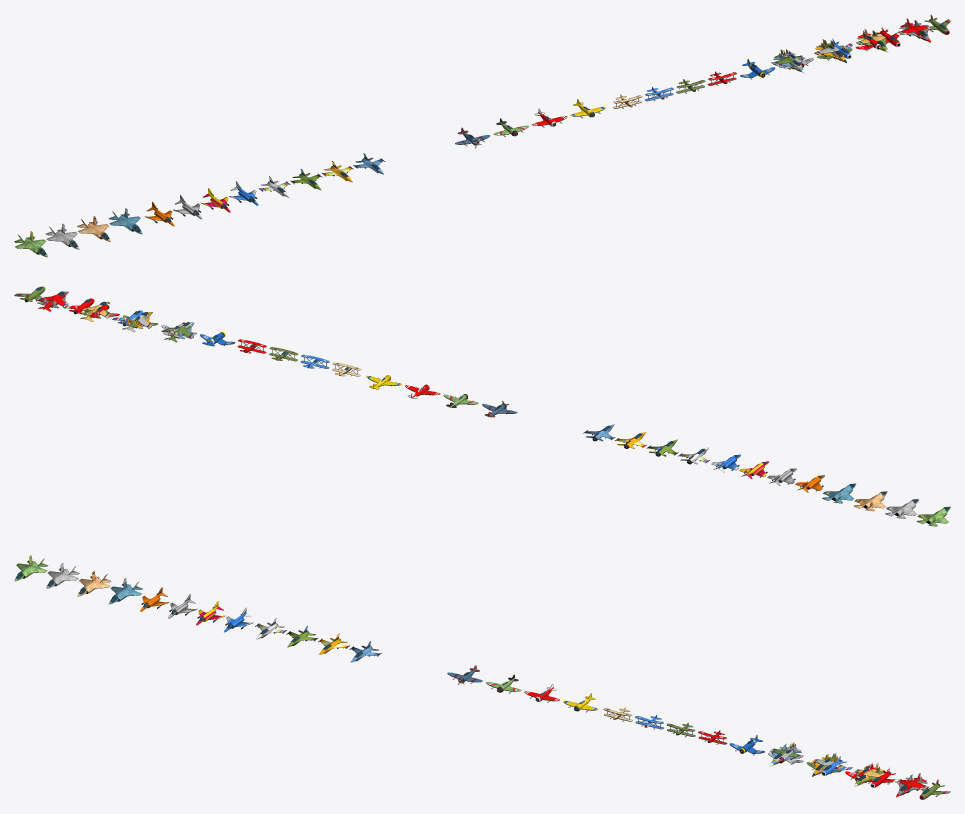
File: planes-B0jwi5Lq.glb
3 renders of one model, top to bottom at view 1: azimuth 30°, elevation 25°; view 2: azimuth 150°, elevation 25°; view 3: azimuth 330°, elevation 25°, orthographic.
Bounding box in the file's own units: 266 × 3.39 × 12.66.
Materials: 1 (1 with a texture image).
